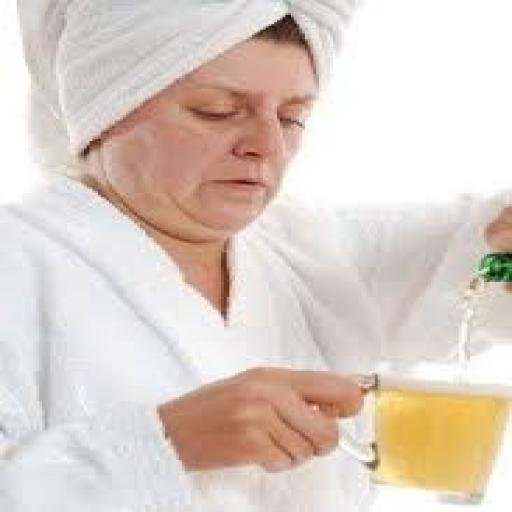drinking: (330, 367, 509, 503)
